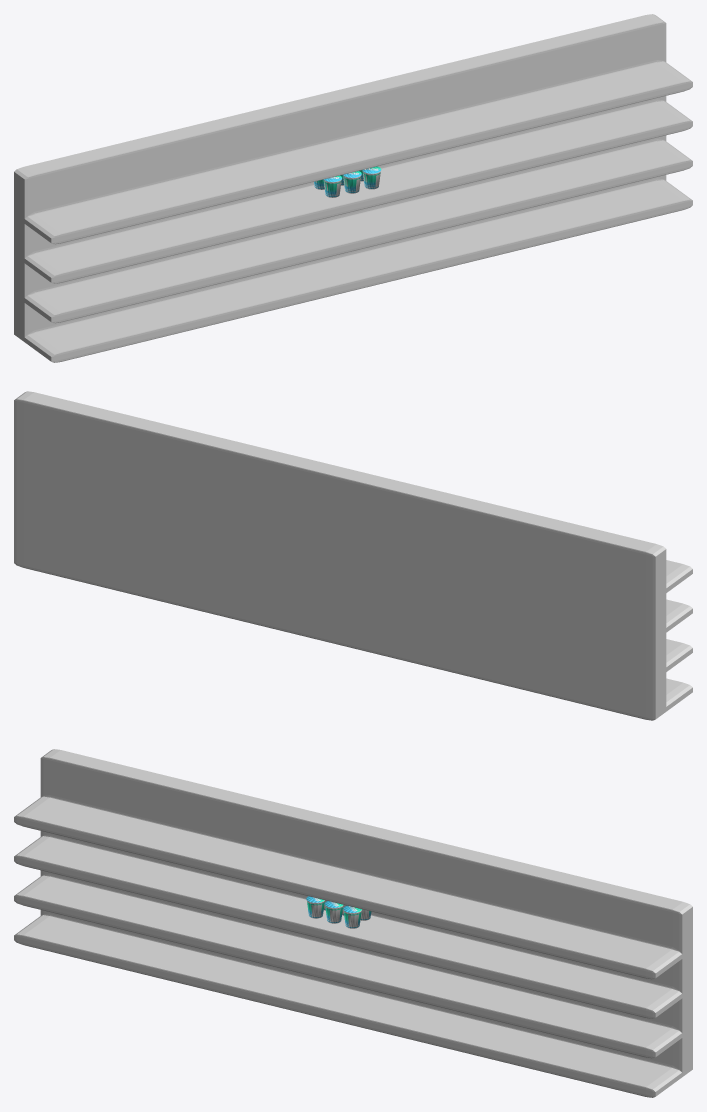
File: ramen3.fbx
3 renders of one model, top to bottom at view 1: azimuth 30°, elevation 25°; view 2: azimuth 150°, elevation 25°; view 3: azimuth 330°, elevation 25°, orthographic.
Parts seen in each view (by area): view 1: rack, cup_ramen; view 2: rack; view 3: rack, cup_ramen.
Part boxes in pixels (x1=…): rack: x1=14, y1=14, x2=692, y2=362; cup_ramen: x1=314, y1=166, x2=381, y2=197; rack: x1=14, y1=391, x2=692, y2=720; rack: x1=14, y1=749, x2=692, y2=1097; cup_ramen: x1=306, y1=896, x2=371, y2=928.
Size of the model in its own units: 400 by 100 by 40.7.
2 materials, 1 textured.
